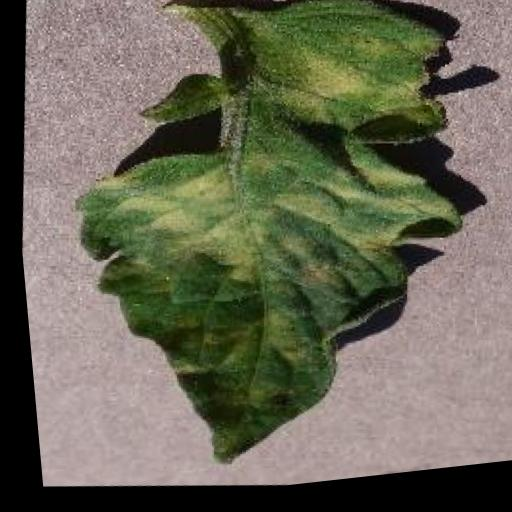Leaf Mold: (30, 0, 497, 506)
